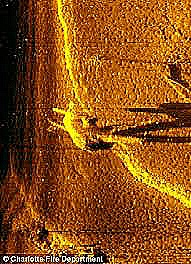aircraft: (46, 99, 144, 151)
